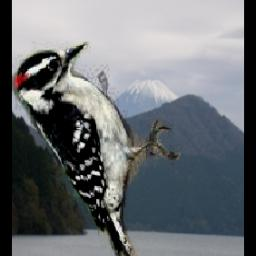Woodpecker: (12, 42, 181, 256)
